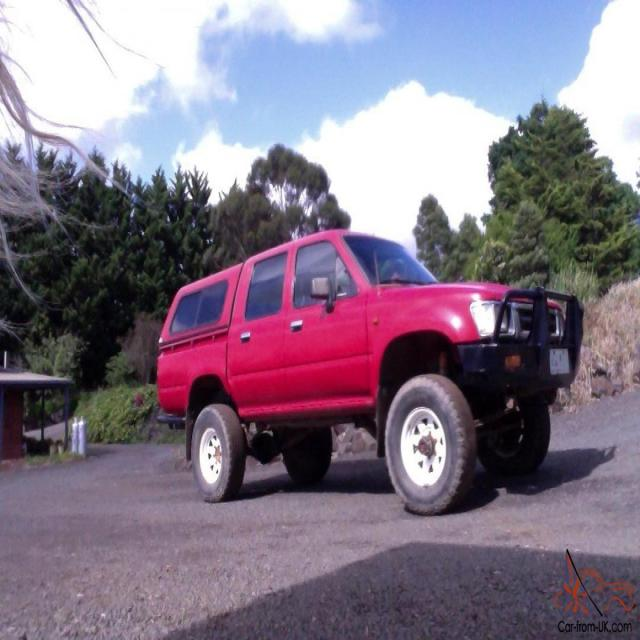light_vehicle: (156, 222, 581, 529)
